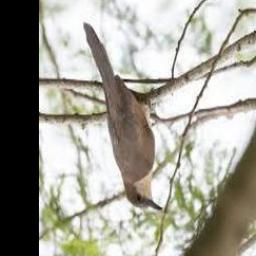Cuckoo: (83, 23, 162, 211)
